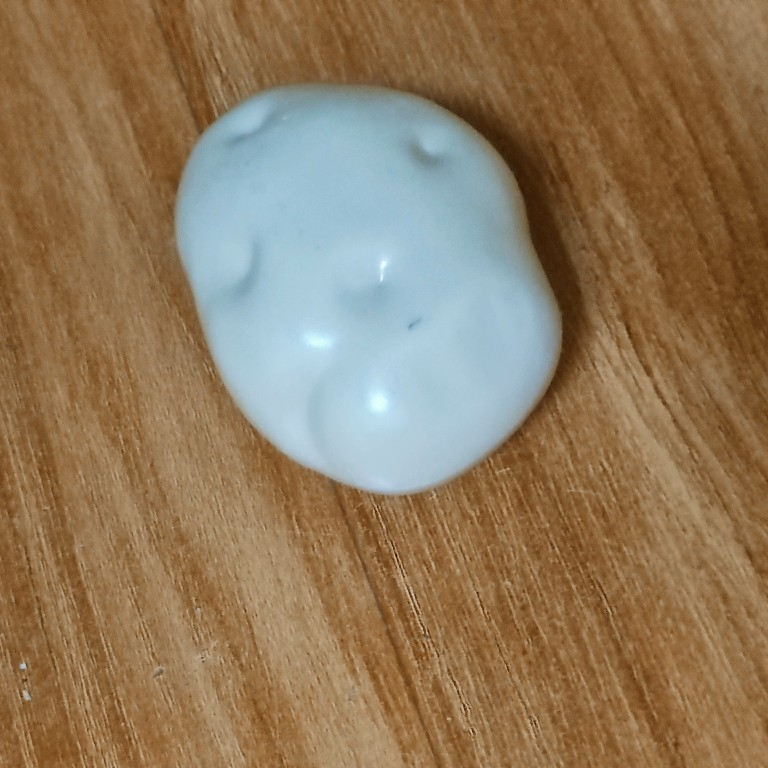fruit_potato: (170, 74, 567, 498)
